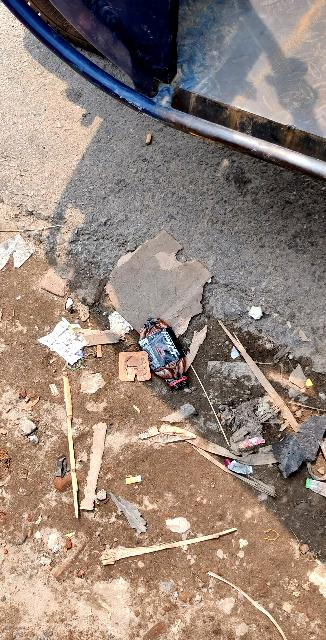bottle: (133, 307, 195, 403)
